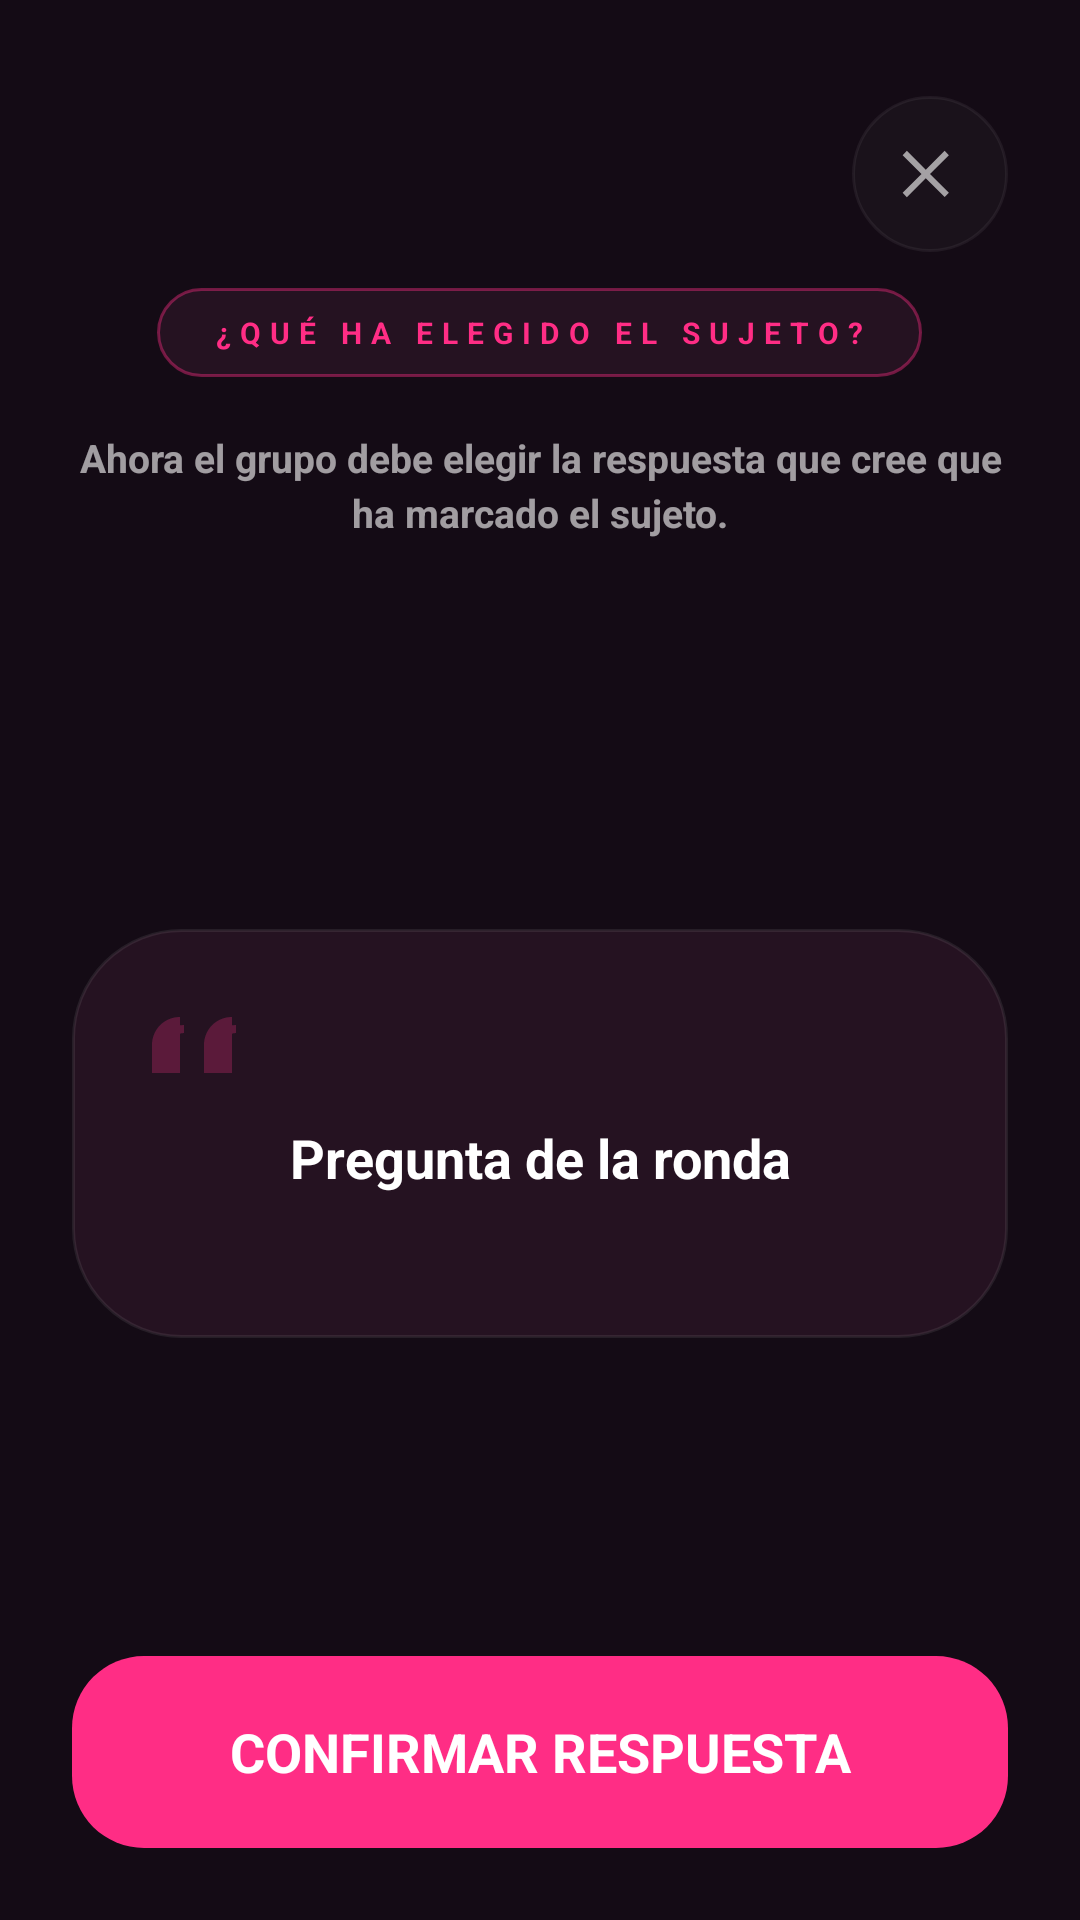

Where to tap for icons on this 1080 x 1920 app screen, as point (x, y):
Cerrar: point (925, 174)
quote: point (194, 1045)
